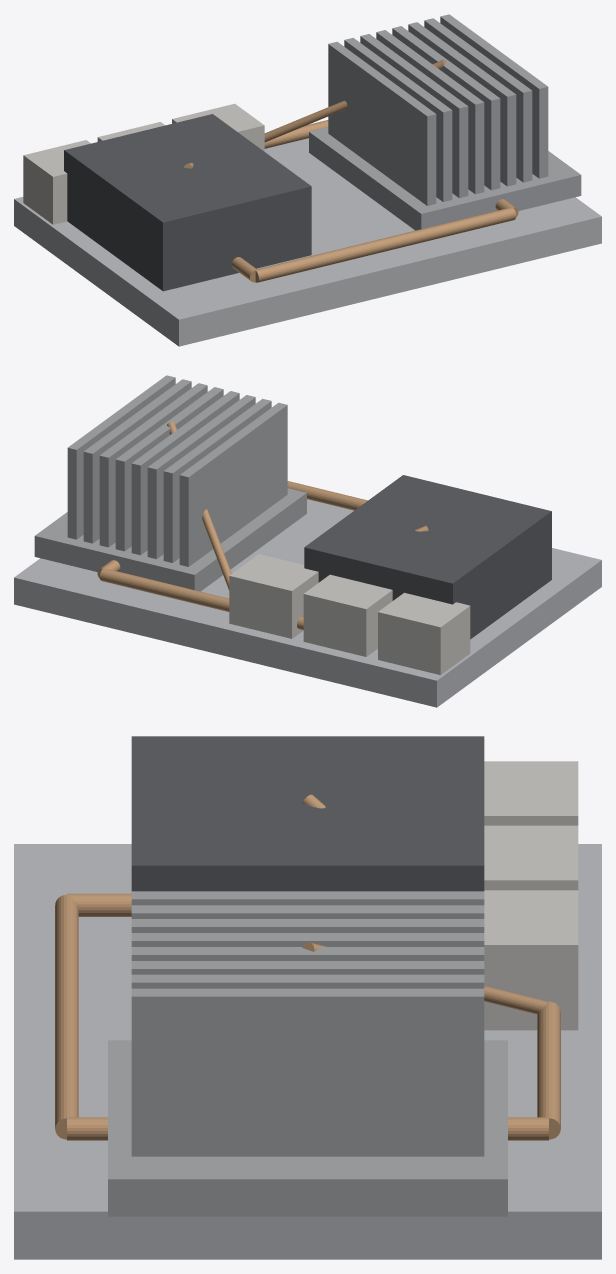
3 renders of one model, top to bottom at view 1: azimuth 30°, elevation 25°; view 2: azimuth 150°, elevation 25°; view 3: azimuth 270°, elevation 25°, orthographic. The views are drawn at different scales.
Visible parts, largest first — view 1: heat_sink, assembly_base, heat_source, coolant_loop, module_01, module_03, link_coolant_loop__heat_sink; view 2: heat_sink, assembly_base, heat_source, module_01, module_03, module_02, coolant_loop, link_coolant_loop__heat_sink; view 3: heat_sink, assembly_base, heat_source, module_03, coolant_loop, module_02, module_01, link_coolant_loop__heat_sink.
Part boxes in pixels (x1,y1,x2,y2): heat_sink: (309,14,581,230); assembly_base: (14,138,601,346); heat_source: (64,114,311,291); coolant_loop: (231,120,518,282); module_01: (23,140,90,224); module_03: (172,103,264,151); link_coolant_loop__heat_sink: (264,59,445,142); heat_sink: (34,375,306,591); assembly_base: (14,499,601,707); heat_source: (304,475,551,639); module_01: (378,592,470,675); module_03: (229,554,318,638); module_02: (303,574,392,656); coolant_loop: (97,481,367,630); link_coolant_loop__heat_sink: (167,422,231,590); heat_sink: (108,891,507,1216); assembly_base: (14,844,601,1259); heat_source: (131,736,484,891); module_03: (484,890,578,1030); coolant_loop: (55,893,560,1140); module_02: (484,825,578,890); module_01: (484,761,578,825); link_coolant_loop__heat_sink: (302,942,546,1014).
Bounding box in the file's own units: 7.5 × 2.36 × 5.
